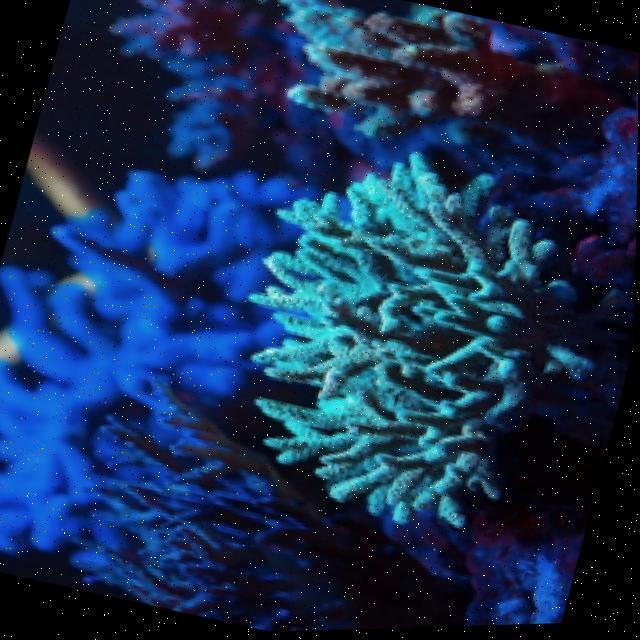Bleached Coral: (200, 136, 610, 552)
Healthy Coral: (237, 0, 639, 138)
